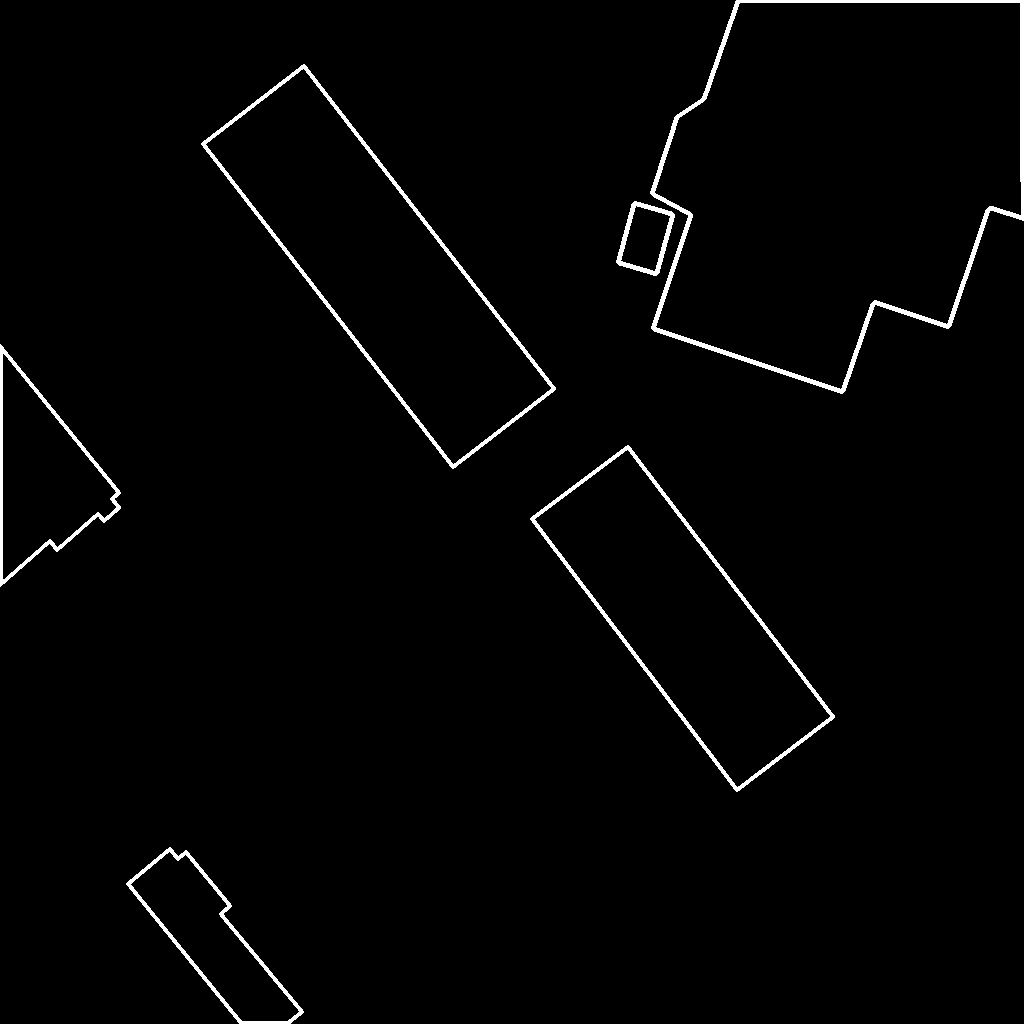building: (652, 0, 1024, 393), (203, 66, 555, 468), (532, 447, 834, 791), (128, 849, 303, 1024), (0, 346, 120, 586), (618, 203, 674, 275)
